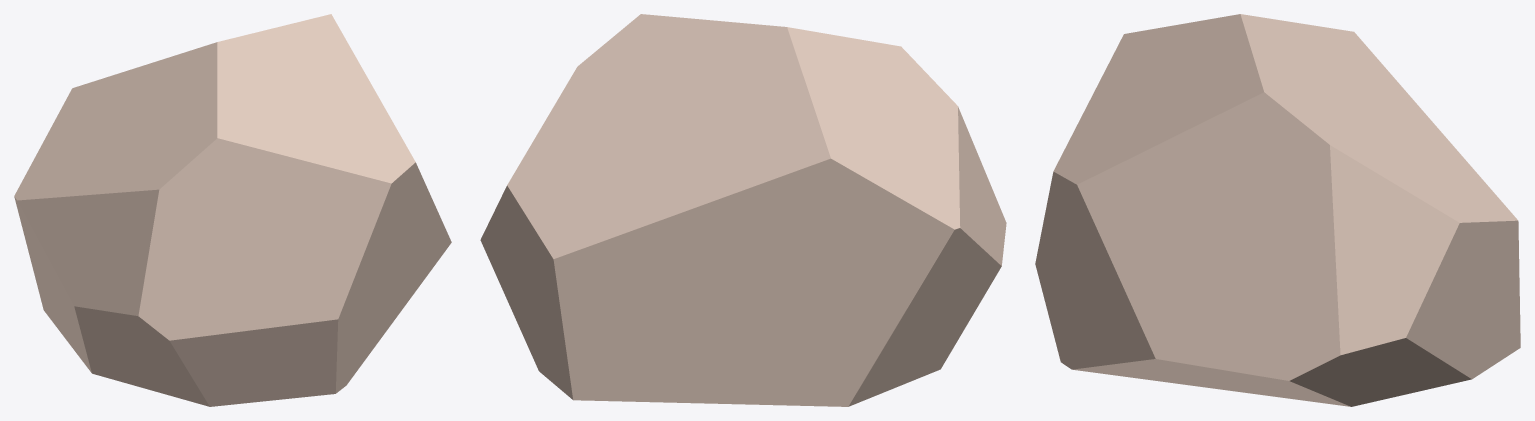
Rendered from Rock_Type2_04.glb.
3 views of the same model, side by side, from view 1: azimuth 30°, elevation 25°; view 2: azimuth 150°, elevation 25°; view 3: azimuth 270°, elevation 25° (orthographic). The views are drawn at different scales.
Visible parts, largest first — view 1: Rock Type2 04 mesh; view 2: Rock Type2 04 mesh; view 3: Rock Type2 04 mesh.
Boxes of the visible parts, bbox=[...] form: Rock Type2 04 mesh: bbox=[14, 14, 451, 406]; Rock Type2 04 mesh: bbox=[480, 14, 1006, 406]; Rock Type2 04 mesh: bbox=[1035, 14, 1520, 406].
Size of the model in its own units: 0.8101 by 0.5717 by 0.7651.
Materials: 1 (1 with a texture image).
